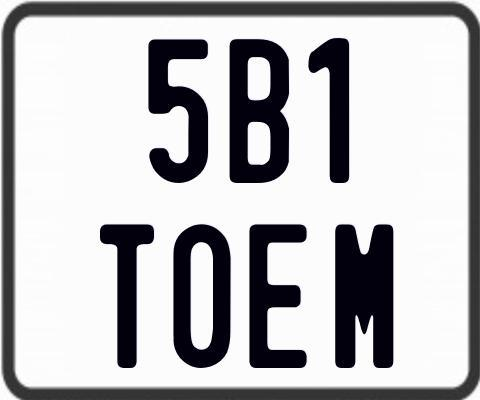0: (173, 222, 234, 369)
1: (307, 38, 348, 184)
5: (148, 37, 210, 185)
B: (229, 37, 290, 186)
E: (249, 222, 311, 368)
M: (335, 224, 393, 370)
T: (98, 224, 155, 368)
